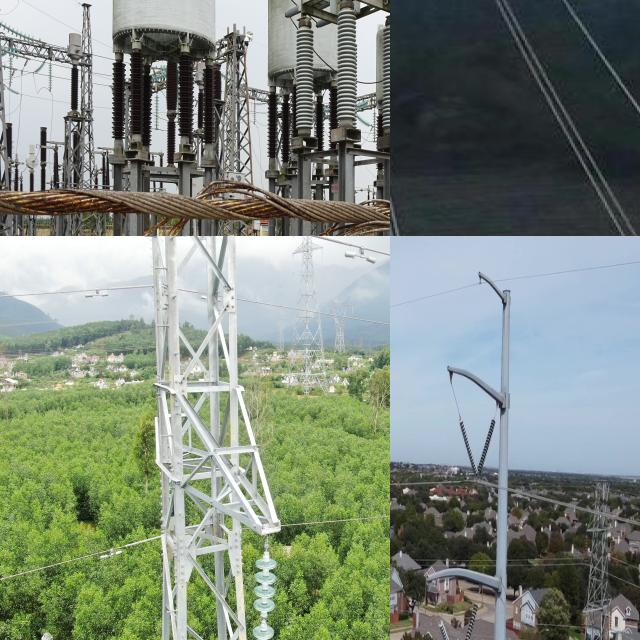杆塔: (130, 236, 290, 640), (286, 236, 330, 399), (578, 475, 616, 640)
正常电缆: (497, 0, 640, 236), (0, 277, 390, 335), (0, 534, 127, 593), (300, 504, 390, 535)
正常绝缘子: (246, 532, 279, 640), (458, 416, 480, 479), (475, 418, 497, 479), (464, 603, 480, 640), (582, 528, 591, 560), (438, 618, 450, 640), (579, 610, 586, 640), (608, 602, 613, 635)
电缆破损: (1, 168, 390, 236)
绝缘子破损: (260, 613, 268, 624)
